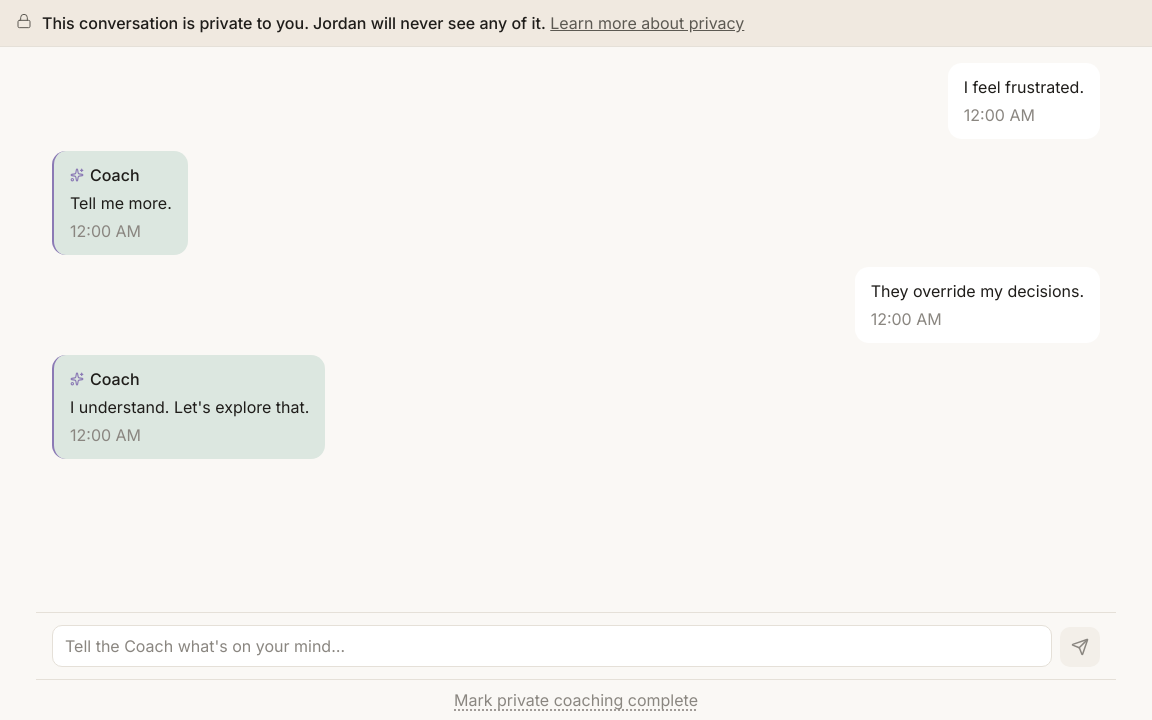
Scenario: AC 6: Mark Complete opens confirmation dialog showing message count › Mark Complete opens confirmation dialog showing message count: "You've had {N} messages with the Coach. Ready to move on?"
This screenshot has width=1152, height=720.
Click the button "Mark private coaching complete": (576, 700) [454, 688, 698, 712]
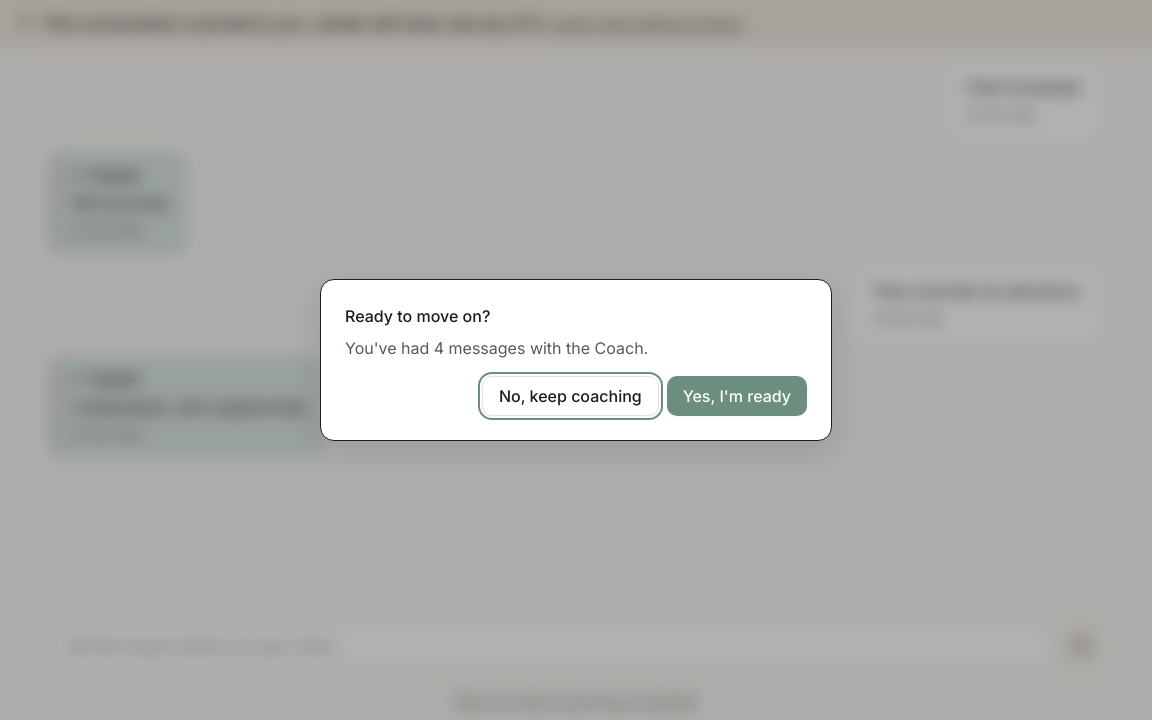
Expected: the dialog is shown, [320, 279, 832, 441]
Expected: the text "You've had 4 messages with the Coach." is shown, [345, 338, 648, 358]
Expected: the heading "Ready to move on?" is shown, [345, 306, 490, 326]
